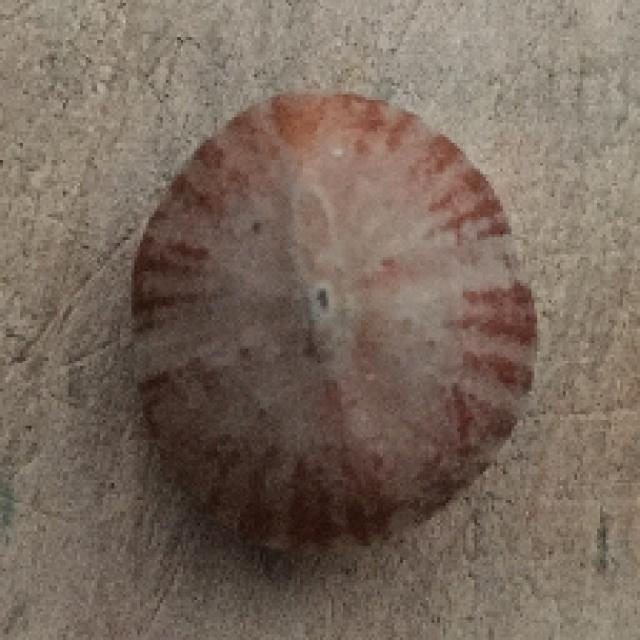qualityHazelnut: (134, 90, 538, 549)
